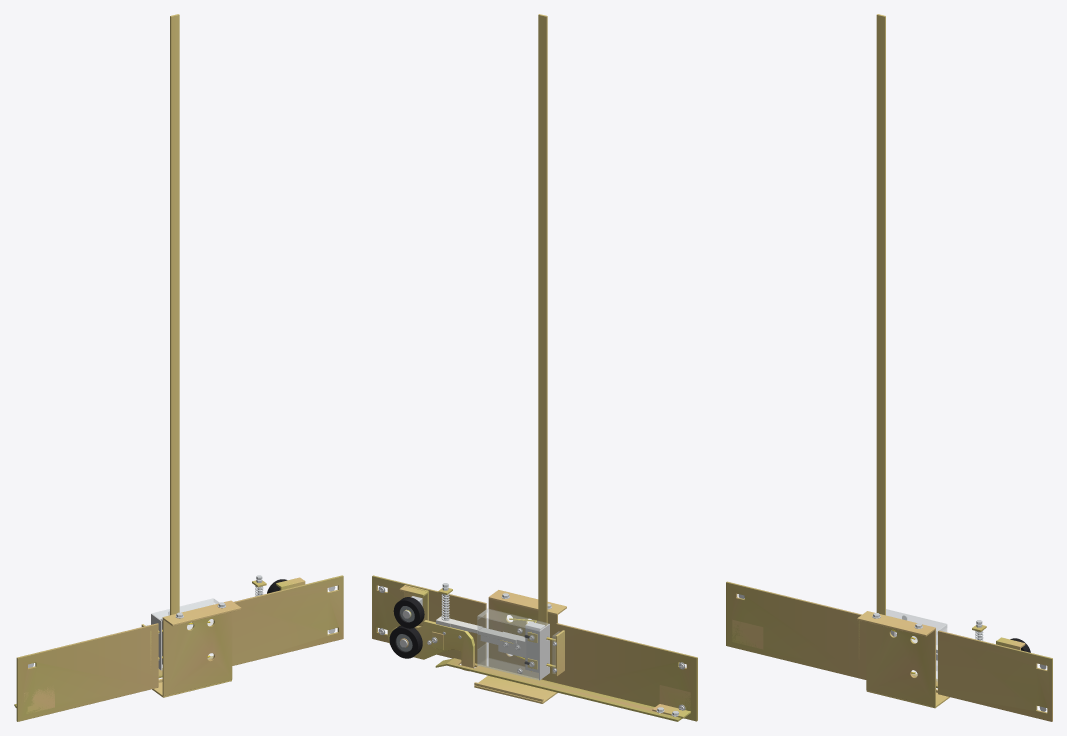
Rendered from hall_interlock.glb.
The picture shows the model from 3 angles, left to right: view 1: azimuth 30°, elevation 25°; view 2: azimuth 150°, elevation 25°; view 3: azimuth 330°, elevation 25°; orthographic projection.
Parts seen in each view (by area): view 1: Opposite mounting extension, Slotted roller mounting plate, LinkStock, SwitchBackplate, Header fixing flange, Keeper angle upright; view 2: Opposite mounting extension, LinkStock, Slotted roller mounting plate, Clear front, SwitchBackplate, hallLatchBar, hallLatchKeeperArm, Folded lower shelf, Header fixing flange, Elastomer tread.001, Clear horizontal wall.001, Keeper angle upright (+2 smaller); view 3: Opposite mounting extension, Slotted roller mounting plate, LinkStock, SwitchBackplate, Header fixing flange, Keeper angle upright.
Boxes of the visible parts, bbox=[...] form: Opposite mounting extension: bbox=[16, 623, 158, 721]; Slotted roller mounting plate: bbox=[232, 575, 343, 665]; LinkStock: bbox=[170, 14, 179, 615]; SwitchBackplate: bbox=[162, 612, 232, 696]; Header fixing flange: bbox=[162, 600, 241, 626]; Keeper angle upright: bbox=[24, 687, 54, 713]; Opposite mounting extension: bbox=[556, 623, 697, 721]; LinkStock: bbox=[538, 14, 547, 626]; Slotted roller mounting plate: bbox=[372, 575, 486, 665]; Clear front: bbox=[477, 616, 538, 679]; SwitchBackplate: bbox=[488, 599, 557, 682]; hallLatchBar: bbox=[446, 658, 682, 721]; hallLatchKeeperArm: bbox=[388, 620, 474, 671]; Folded lower shelf: bbox=[474, 675, 557, 703]; Header fixing flange: bbox=[488, 590, 566, 615]; Elastomer tread.001: bbox=[389, 625, 422, 658]; Clear horizontal wall.001: bbox=[478, 608, 548, 630]; Keeper angle upright: bbox=[659, 685, 690, 710]; Opposite mounting extension: bbox=[726, 581, 866, 679]; Slotted roller mounting plate: bbox=[938, 630, 1052, 721]; LinkStock: bbox=[876, 14, 885, 615]; SwitchBackplate: bbox=[866, 622, 935, 706]; Header fixing flange: bbox=[857, 611, 935, 636]; Keeper angle upright: bbox=[732, 619, 763, 649].
Size of the model in its own units: 0.54 by 1.07 by 0.0786.
